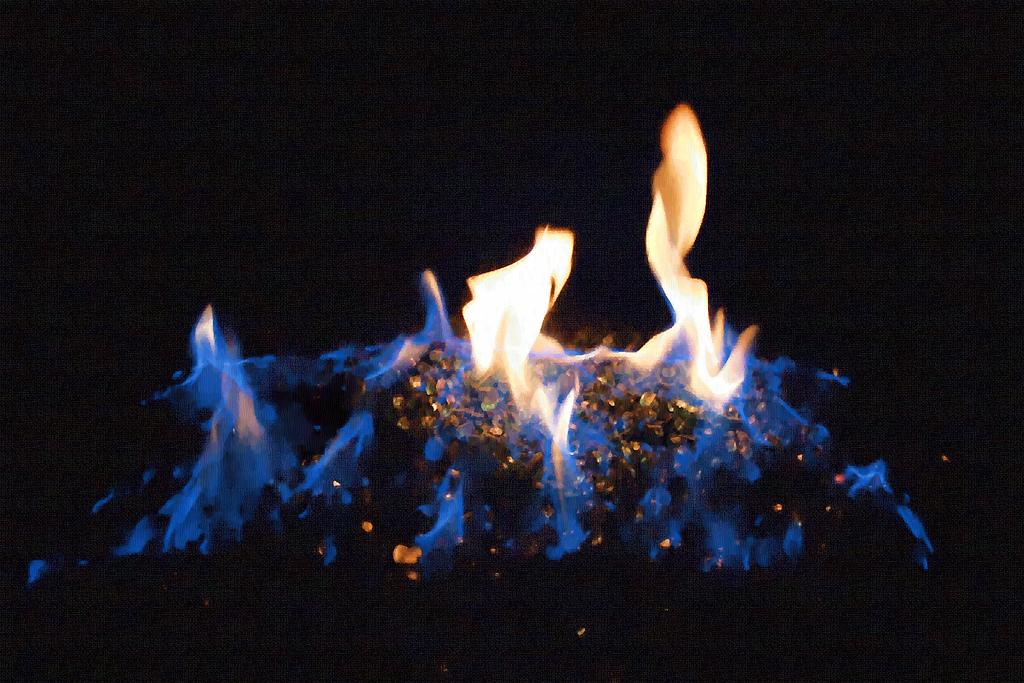fire: (182, 315, 275, 485), (658, 110, 727, 318), (470, 250, 562, 400)
